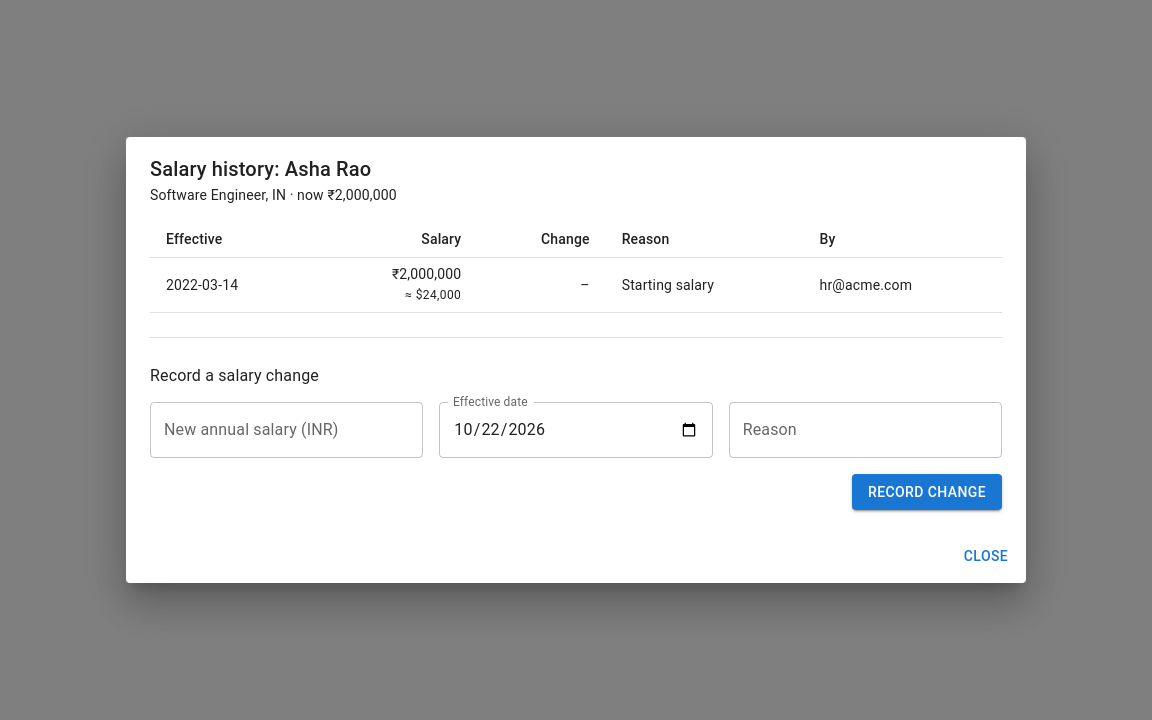
Test: SalaryHistoryDialog › shows the server message when the change is refused
Expected: the text "Starting salary" is shown, [606, 258, 804, 312]
In the field labelled "New annual salary (INR)": (287, 430) [150, 402, 423, 458], type "2000000"
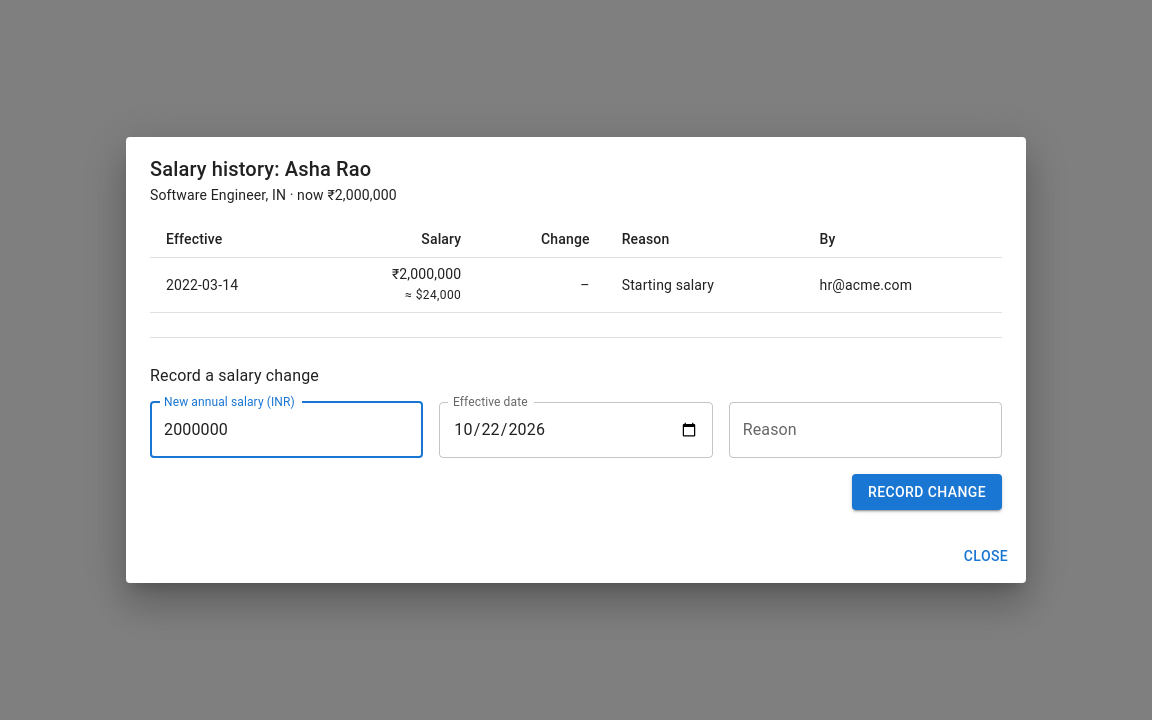
In the dropdown labelled "Reason": (865, 430) [738, 411, 993, 449], type "Oops"
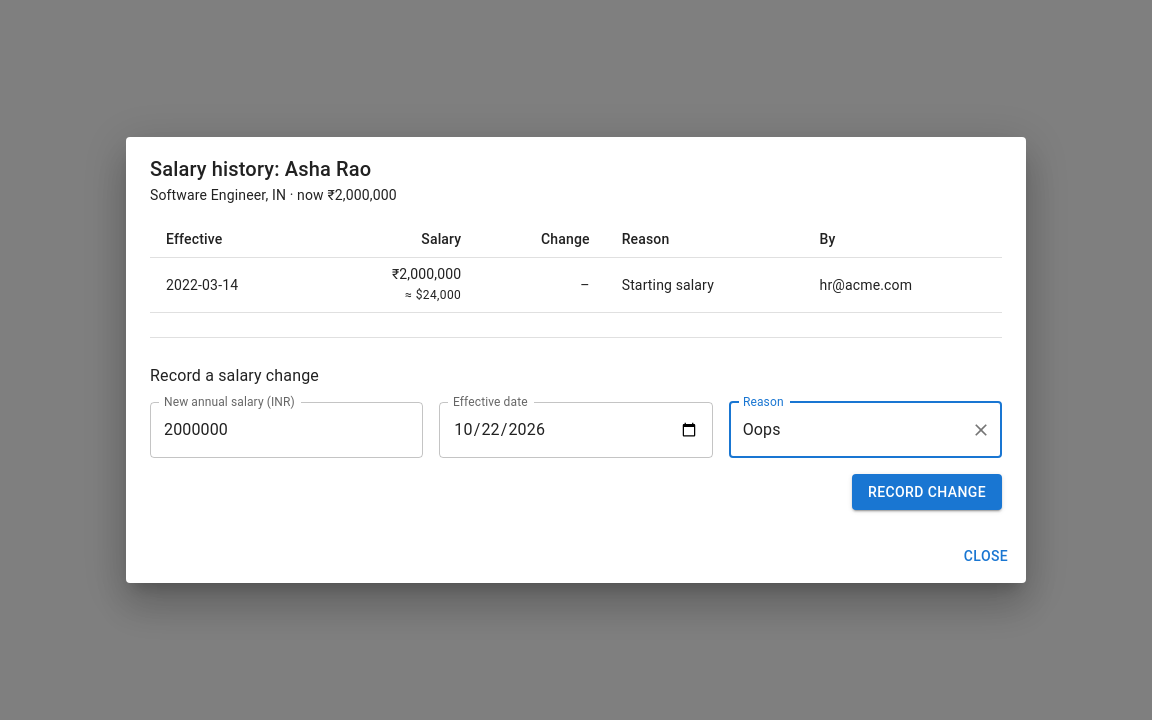
Click the button "Record change": (927, 492) [852, 474, 1002, 510]
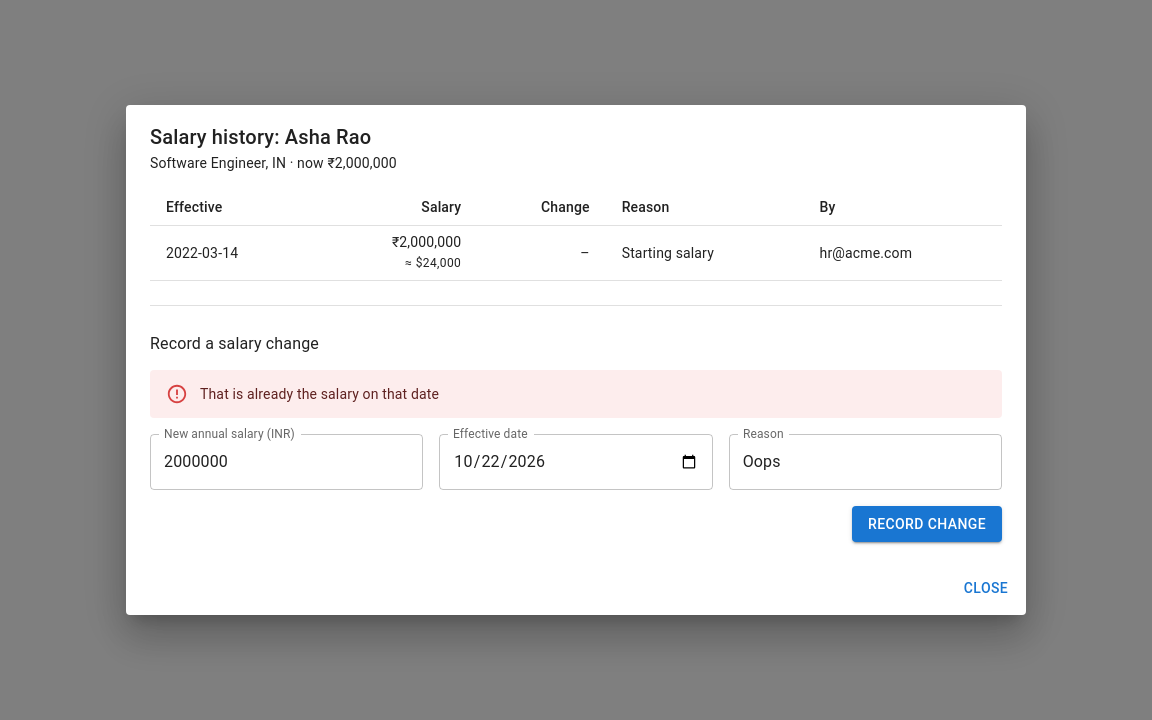
Result: the text "That is already the salary on that date" is shown at [200, 386, 439, 402]
